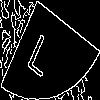L: (24, 25, 60, 78)
